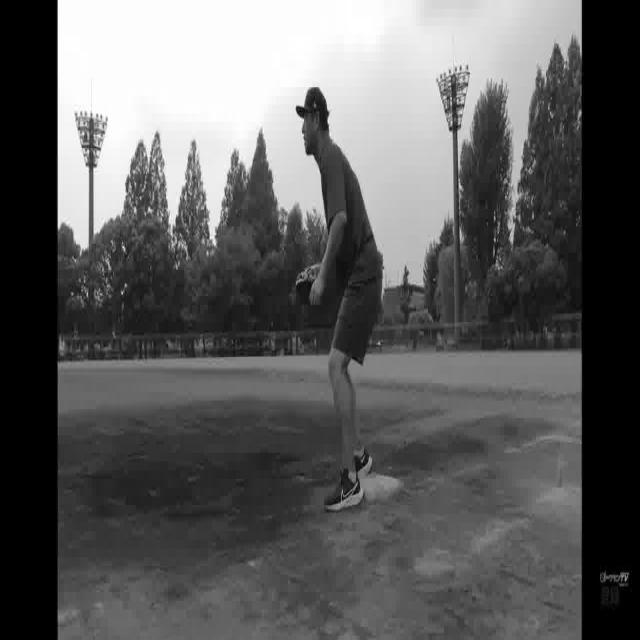base: (357, 473, 403, 509)
baseball_glove: (294, 268, 326, 320)
shoe: (327, 470, 364, 517), (355, 455, 375, 467)
